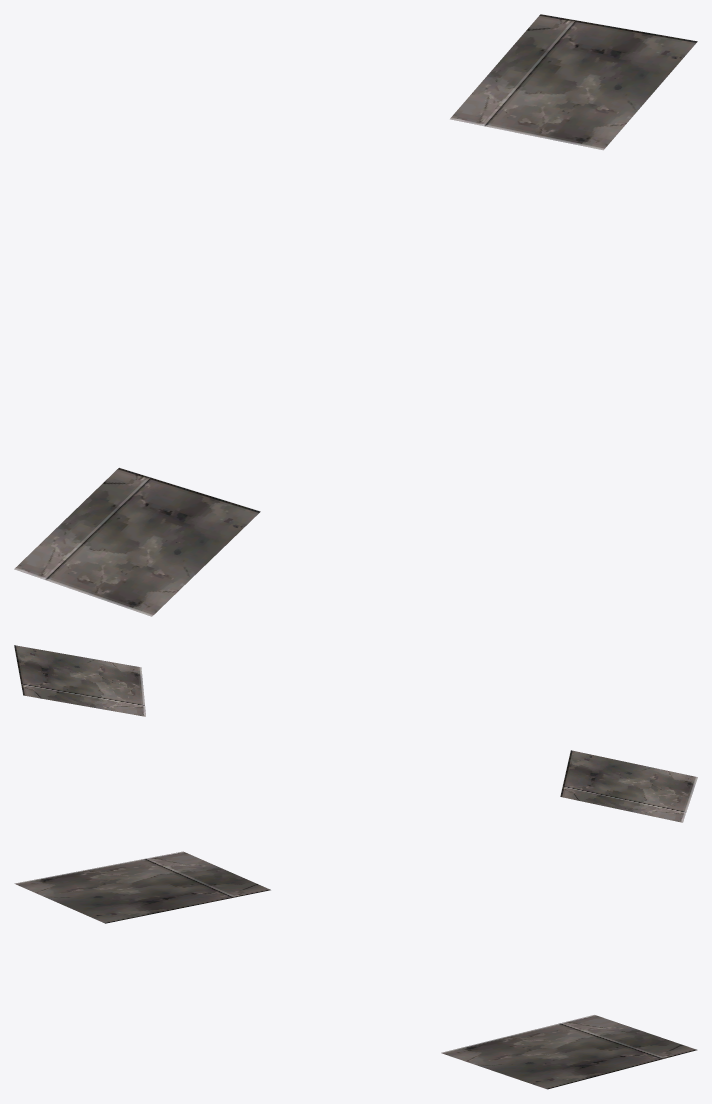
File: CH09_SMAUG_PLAYSURFACE_LAIR140.fbx
3 renders of one model, top to bottom at view 1: azimuth 30°, elevation 25°; view 2: azimuth 150°, elevation 25°; view 3: azimuth 270°, elevation 25°, orthographic. The views are drawn at different scales.
Parts seen in each view (by area): view 1: CH09_SMAUG_PLAYSURFACE_LAIR140; view 2: CH09_SMAUG_PLAYSURFACE_LAIR140; view 3: CH09_SMAUG_PLAYSURFACE_LAIR140.
Boxes of the visible parts, x1,y1,x2,y2 form: CH09_SMAUG_PLAYSURFACE_LAIR140: (14, 14, 697, 616); CH09_SMAUG_PLAYSURFACE_LAIR140: (14, 645, 697, 822); CH09_SMAUG_PLAYSURFACE_LAIR140: (14, 851, 697, 1089).
Size of the model in its own units: 62695 by 13576 by 41249.
Materials: 1 (1 with a texture image).
